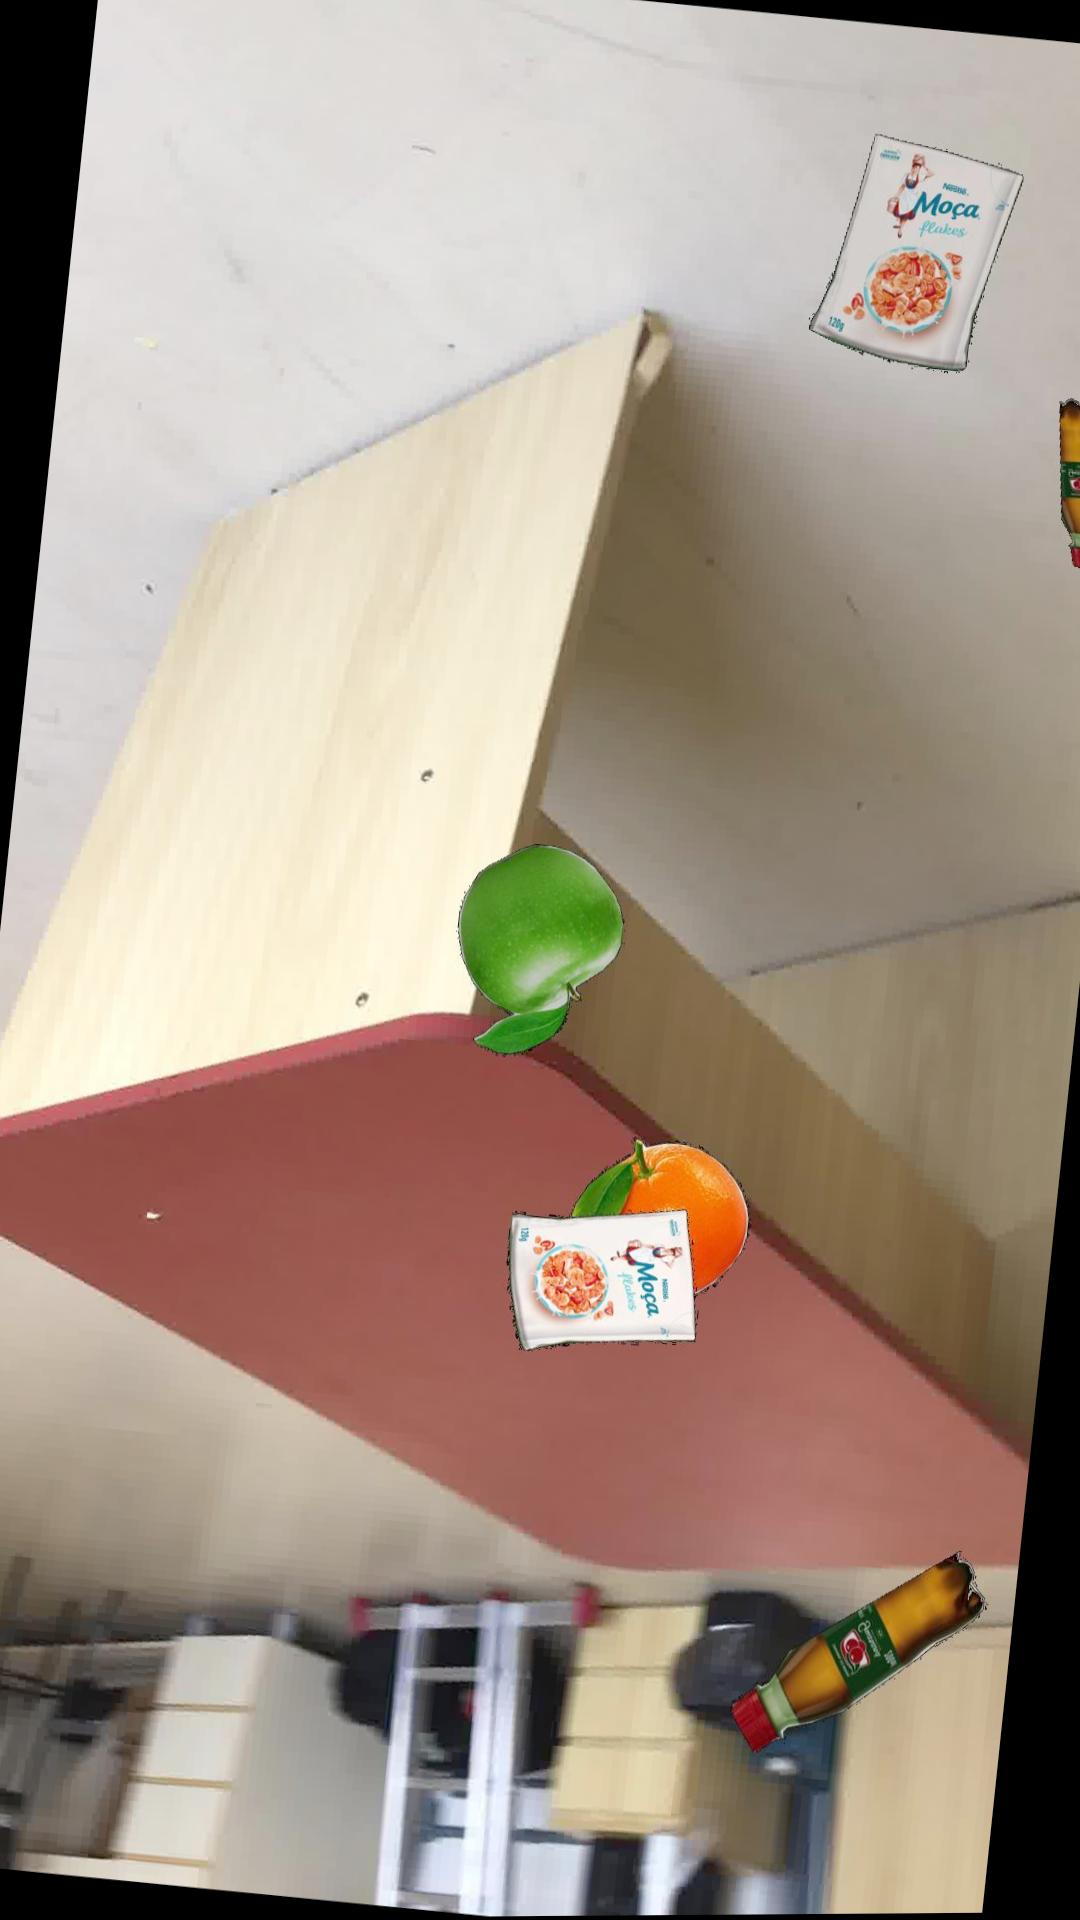corn flakes: (807, 137, 1022, 373), (504, 1212, 696, 1353)
green apple: (456, 847, 624, 1058)
guarana: (728, 1553, 984, 1755), (1058, 402, 1080, 571)
orange: (568, 1138, 750, 1296)
